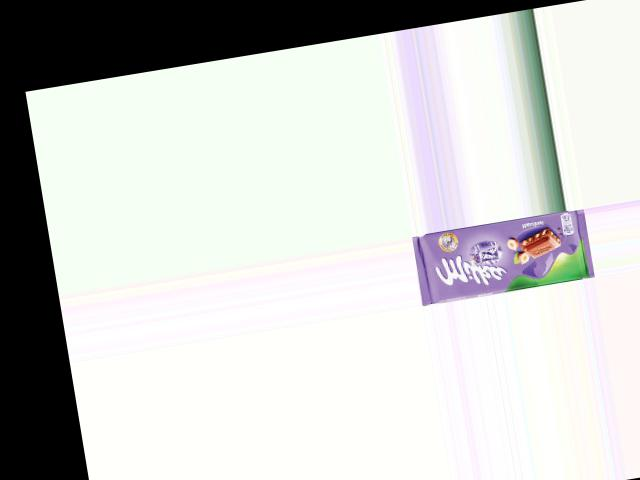chocolate: (411, 207, 595, 305)
